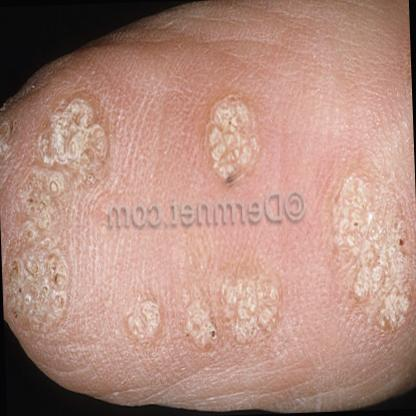Warts: (199, 83, 268, 193), (219, 269, 284, 362), (178, 284, 225, 364), (122, 286, 165, 352)
